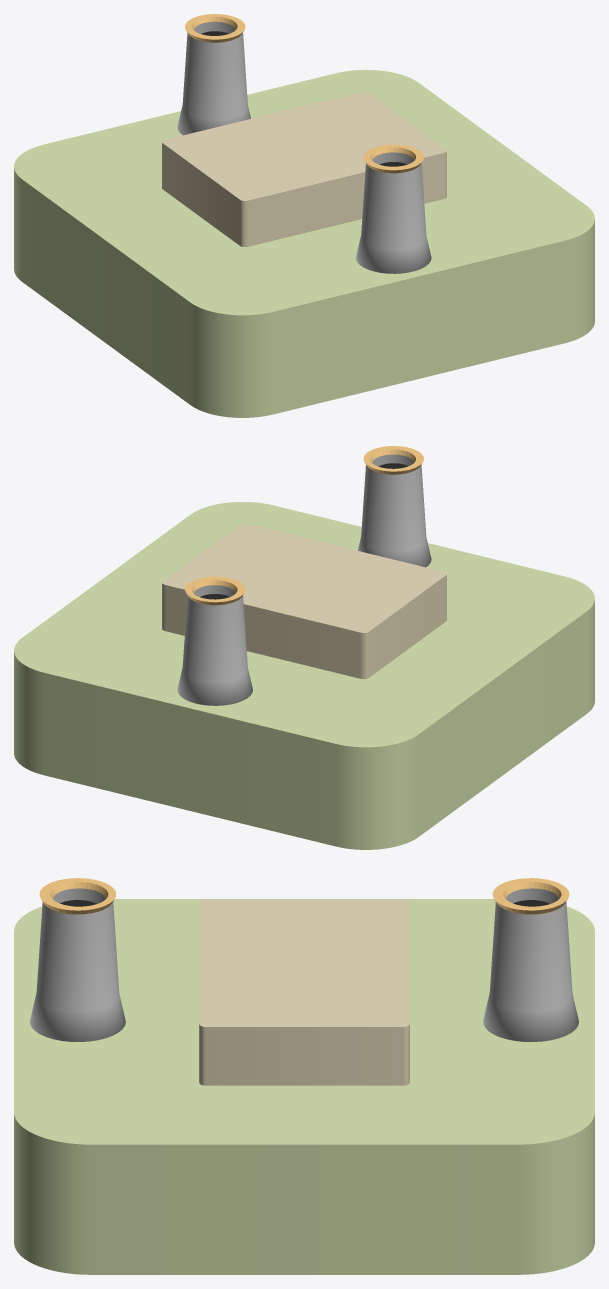
File: button_for_logic_with_pin.fbx
3 views of the same model, one above another, from view 1: azimuth 30°, elevation 25°; view 2: azimuth 150°, elevation 25°; view 3: azimuth 270°, elevation 25° (orthographic). The views are drawn at different scales.
Parts seen in each view (by area): view 1: Cube.001, Cube.002, plus_cyl.001, plus_cyl; view 2: Cube.001, Cube.002, plus_cyl, plus_cyl.001; view 3: Cube.001, Cube.002, plus_cyl, plus_cyl.001.
Boxes of the visible parts, left/top/right/bottom form: Cube.001: left=14, top=69, right=594, bottom=417; Cube.002: left=162, top=91, right=446, bottom=246; plus_cyl.001: left=356, top=144, right=431, bottom=273; plus_cyl: left=177, top=14, right=250, bottom=135; Cube.001: left=14, top=502, right=594, bottom=849; Cube.002: left=162, top=523, right=446, bottom=679; plus_cyl: left=177, top=576, right=252, bottom=705; plus_cyl.001: left=357, top=446, right=431, bottom=567; Cube.001: left=14, top=899, right=594, bottom=1274; Cube.002: left=199, top=899, right=409, bottom=1085; plus_cyl: left=483, top=878, right=578, bottom=1041; plus_cyl.001: left=30, top=878, right=125, bottom=1041.
Size of the model in its own units: 200 by 97.91 by 200.
